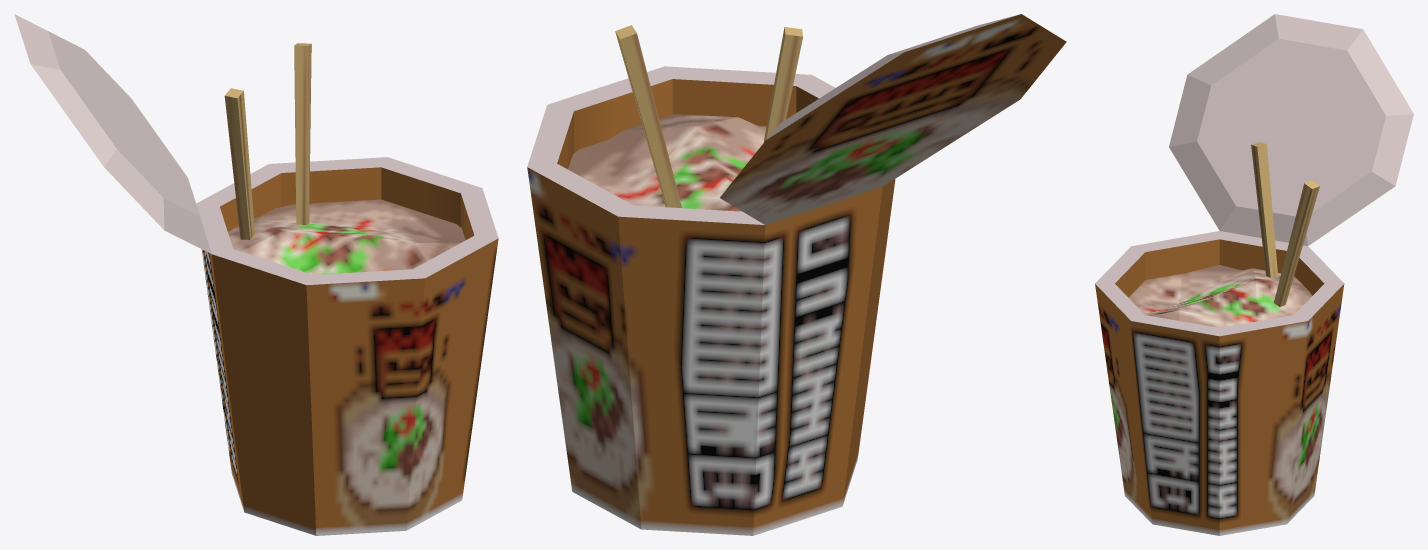
Rendered from ramen.obj.
3 views of the same model, side by side, from view 1: azimuth 30°, elevation 25°; view 2: azimuth 150°, elevation 25°; view 3: azimuth 270°, elevation 25° (orthographic). The views are drawn at different scales.
Visible parts, largest first — view 1: Cube_Mesh; view 2: Cube_Mesh; view 3: Cube_Mesh.
Boxes of the visible parts, x1,y1,x2,y2 form: Cube_Mesh: [14, 14, 498, 535]; Cube_Mesh: [527, 14, 1066, 535]; Cube_Mesh: [1095, 14, 1413, 535].
Size of the model in its own units: 0.2248 by 0.2402 by 0.1866.
